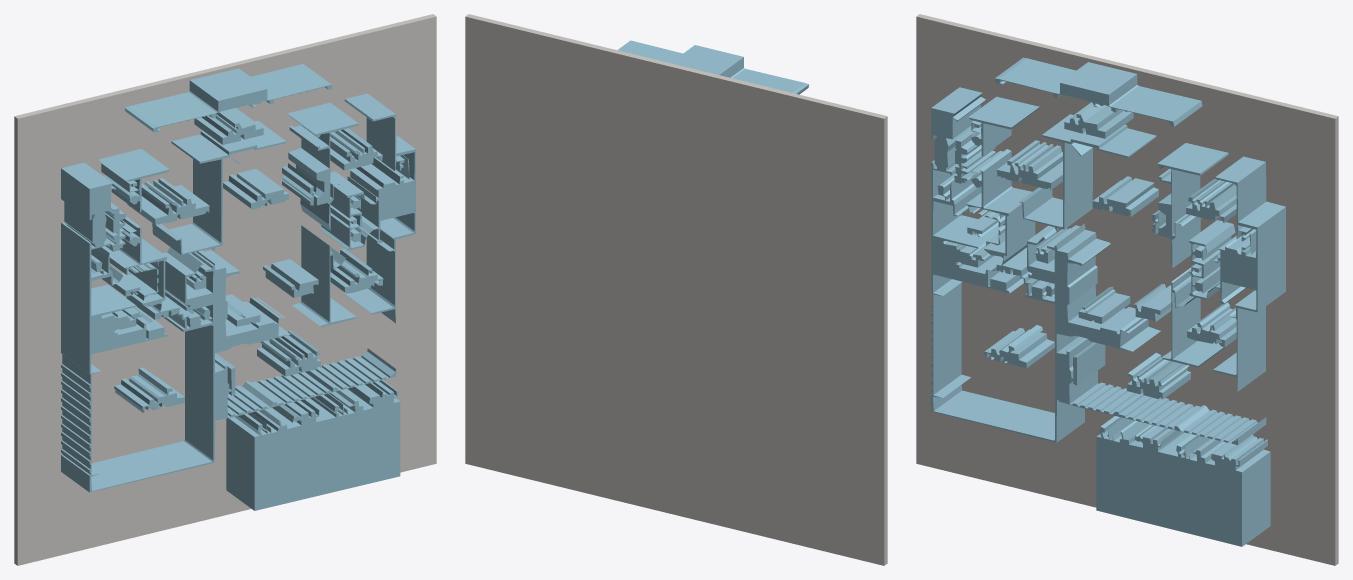
3 renders of one model, left to right at view 1: azimuth 30°, elevation 25°; view 2: azimuth 150°, elevation 25°; view 3: azimuth 330°, elevation 25°, orthographic.
Parts seen in each view (by area): view 1: world; view 2: world; view 3: world.
Boxes of the visible parts, left/top/right/bottom form: world: left=14, top=14, right=436, bottom=565; world: left=465, top=14, right=887, bottom=565; world: left=916, top=14, right=1338, bottom=565.
Bounding box in the file's own units: 10.23 × 10.43 × 1.35.
